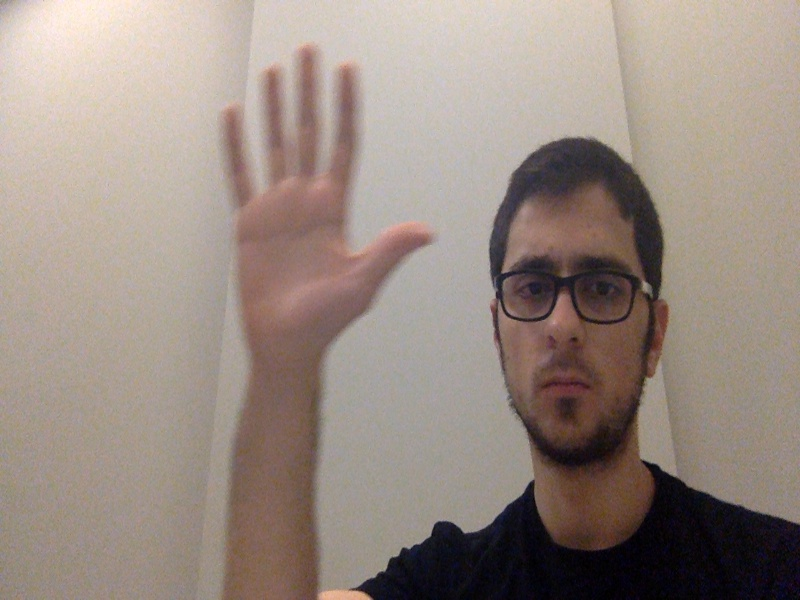5-hand: (202, 44, 439, 355)
